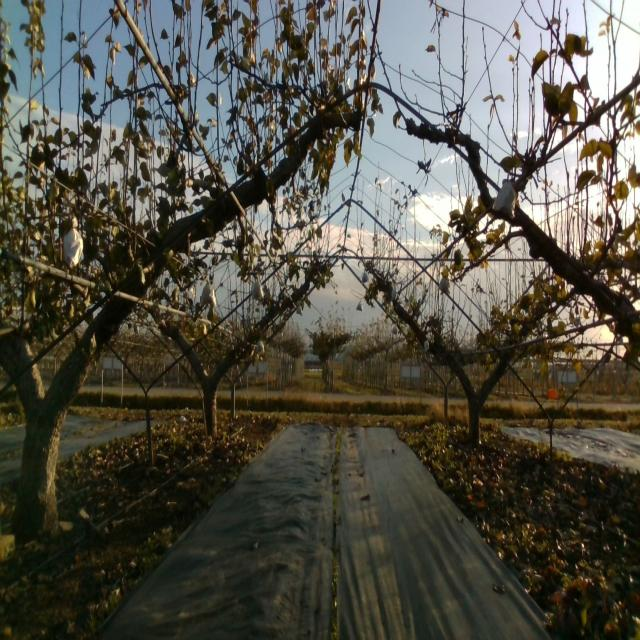pearbags: (61, 215, 84, 266), (491, 180, 517, 218), (197, 276, 217, 308), (250, 275, 267, 301)
